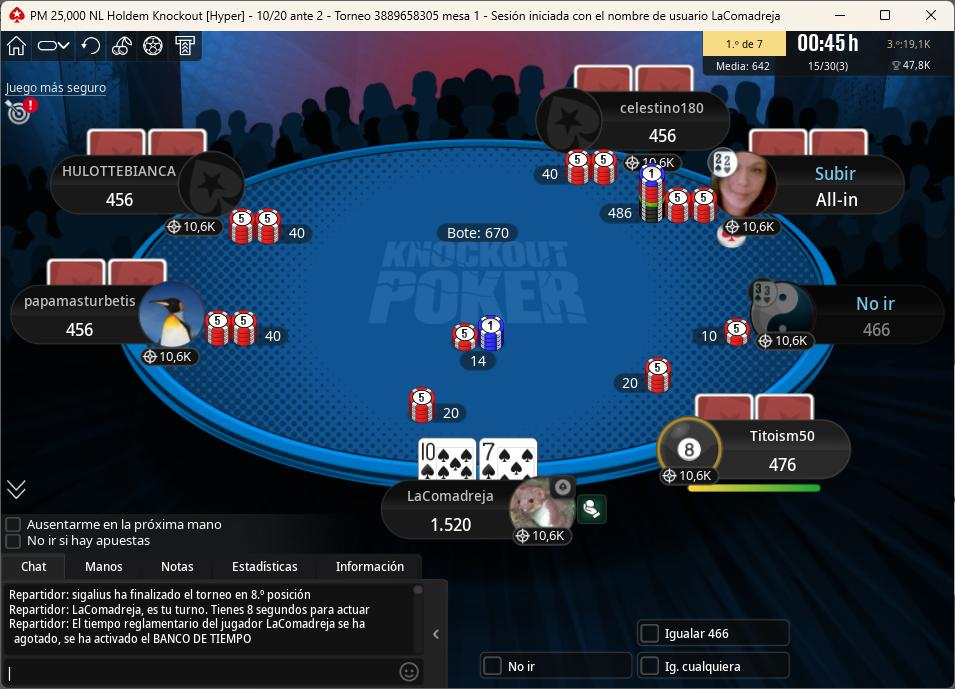Dealer: (712, 215, 756, 261)
HiddenCards: (693, 393, 822, 424), (84, 133, 218, 161), (575, 68, 704, 96), (42, 258, 169, 286), (749, 131, 871, 160)
Player: (744, 282, 947, 350), (651, 421, 851, 488), (12, 283, 210, 350), (713, 154, 913, 219), (49, 151, 248, 215), (545, 88, 738, 152)
PlayerBet: (591, 161, 726, 232), (526, 149, 630, 192), (200, 309, 299, 353), (228, 209, 321, 250), (608, 353, 686, 401), (690, 317, 759, 351)
PlayerChips: (811, 190, 869, 211), (765, 455, 808, 476), (860, 322, 901, 343), (645, 126, 689, 145), (60, 324, 104, 342), (102, 192, 144, 210)
Pot: (435, 225, 522, 244)
PreButtonCall: (632, 617, 795, 650)
PreButtonCallAny: (636, 653, 796, 684)
PreButtonFold: (474, 651, 638, 684)
PrincipalBet: (406, 385, 473, 425)
PrincipalCards: (416, 439, 545, 484)
PrincipalCards1: (414, 436, 478, 482)
PrincipalCards2: (480, 437, 542, 482)
PrincipalPlayer: (381, 477, 586, 552)
PrincipalPlayerChips: (423, 518, 483, 537)
SmallBigBlind: (246, 6, 335, 28)
TablePot: (444, 315, 544, 379)
